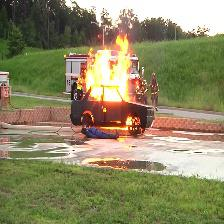fire: (79, 32, 144, 110)
